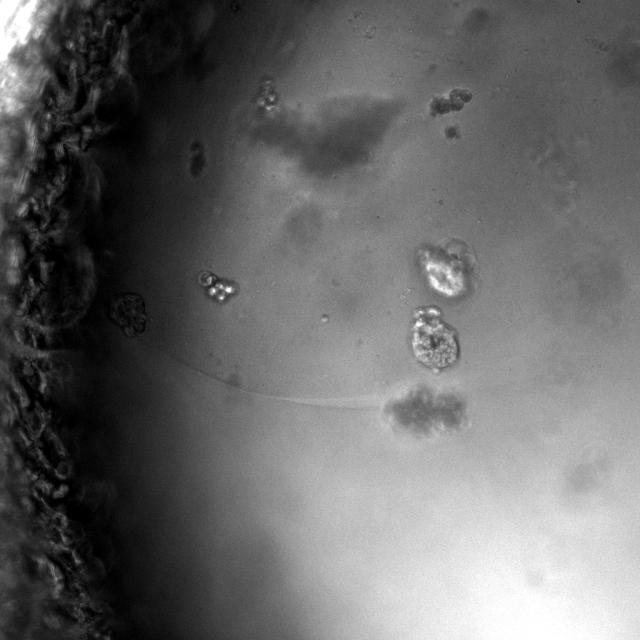organoid: (416, 237, 478, 301), (411, 305, 459, 372), (110, 293, 148, 336), (428, 88, 473, 117), (198, 271, 238, 302), (251, 75, 279, 113)
